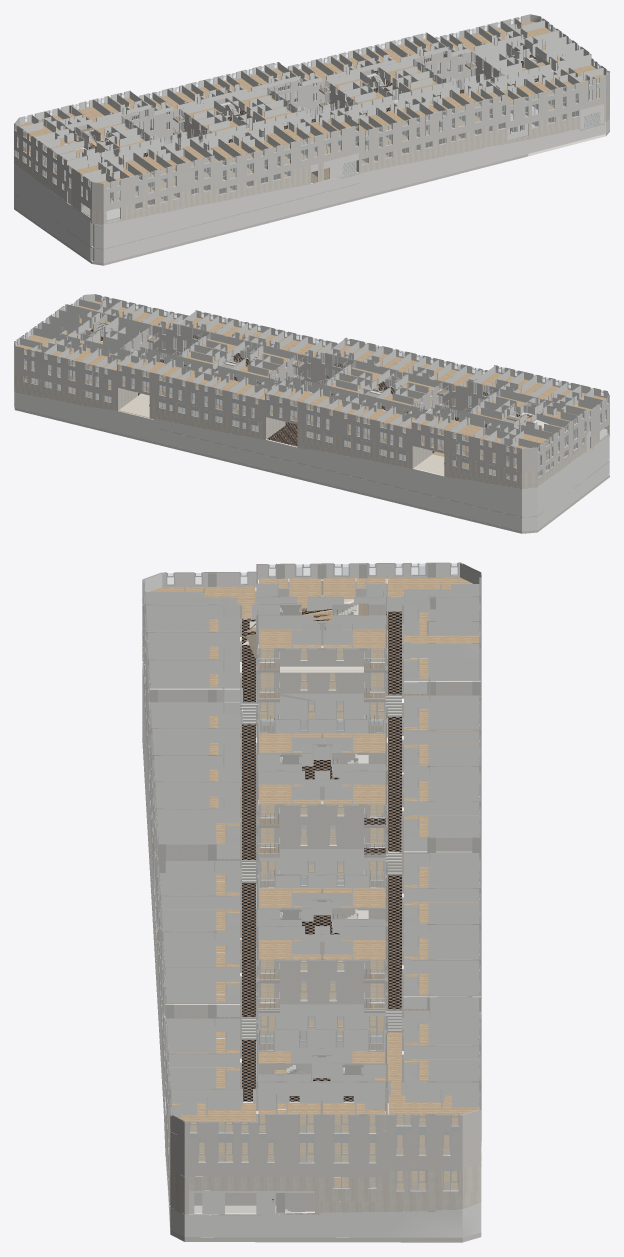
Rendered from apolo_corte_p2.glb.
3 renders of one model, top to bottom at view 1: azimuth 30°, elevation 25°; view 2: azimuth 150°, elevation 25°; view 3: azimuth 270°, elevation 25°, orthographic. The views are drawn at different scales.
Parts seen in each view (by area): view 1: envolvente__T2__APOLO V6 | Pintura interior blanca mate, envolvente__T2__APOLO V6 | Monocapa blanco roto 5pct calido, envolvente__T2__APOLO V3 | Vinilo roble natural claro, envolvente__T2__APOLO V6 | Travertino marfil veta vertical, envolvente__T2__APOLO V6 | Aluminio plata grata, carpinteria__T5__APOLO V6 | Aluminio plata grata, carpinteria__T3__APOLO V6 | Aluminio plata grata, carpinteria__T1__APOLO V6 | Aluminio plata grata, carpinteria__T0__APOLO V6 | Aluminio plata grata, carpinteria__T7__APOLO V6 | Aluminio plata grata, envolvente__T2__Tile_Interior_05_1K, carpinteria__T4__APOLO V6 | Aluminio plata grata (+3 smaller); view 2: envolvente__T2__APOLO V6 | Pintura interior blanca mate, envolvente__T2__APOLO V6 | Monocapa blanco roto 5pct calido, envolvente__T2__APOLO V6 | Travertino marfil veta vertical, envolvente__T2__APOLO V3 | Vinilo roble natural claro, carpinteria__T0__APOLO V6 | Aluminio plata grata, carpinteria__T2__APOLO V6 | Aluminio plata grata, carpinteria__T4__APOLO V6 | Aluminio plata grata, envolvente__T2__APOLO V6 | Aluminio plata grata, carpinteria__T6__APOLO V6 | Aluminio plata grata, envolvente__T2__Tile_Interior_05_1K, envolvente__T4__Tile_Interior_05_1K, envolvente__T4__APOLO V6 | PAMESA WELLS Ivory 120x60 (+3 smaller); view 3: envolvente__T2__APOLO V6 | Pintura interior blanca mate, envolvente__T2__APOLO V6 | Monocapa blanco roto 5pct calido, envolvente__T2__APOLO V3 | Vinilo roble natural claro, envolvente__T2__Tile_Interior_05_1K, envolvente__T2__APOLO V6 | Travertino marfil veta vertical, carpinteria__T6__APOLO V6 | Aluminio plata grata, envolvente__T2__APOLO | Tarima exterior greige, envolvente__T0__APOLO V3 | Vinilo roble natural claro, carpinteria__T0__APOLO V6 | Aluminio plata grata, carpinteria__T4__APOLO V6 | Aluminio plata grata, carpinteria__T2__APOLO V6 | Aluminio plata grata, carpinteria__T7__APOLO V6 | Aluminio plata grata (+6 smaller).
Part boxes in pixels (box(x1,y1,x2,y2)): envolvente__T2__APOLO V6 | Pintura interior blanca mate: box(14, 14, 609, 263); envolvente__T2__APOLO V6 | Monocapa blanco roto 5pct calido: box(14, 14, 609, 265); envolvente__T2__APOLO V3 | Vinilo roble natural claro: box(16, 21, 605, 205); envolvente__T2__APOLO V6 | Travertino marfil veta vertical: box(14, 78, 609, 223); envolvente__T2__APOLO V6 | Aluminio plata grata: box(132, 50, 494, 144); carpinteria__T5__APOLO V6 | Aluminio plata grata: box(361, 95, 505, 164); carpinteria__T3__APOLO V6 | Aluminio plata grata: box(219, 125, 358, 194); carpinteria__T1__APOLO V6 | Aluminio plata grata: box(69, 156, 210, 222); carpinteria__T0__APOLO V6 | Aluminio plata grata: box(14, 92, 151, 193); carpinteria__T7__APOLO V6 | Aluminio plata grata: box(510, 60, 607, 133); envolvente__T2__Tile_Interior_05_1K: box(72, 54, 538, 156); carpinteria__T4__APOLO V6 | Aluminio plata grata: box(286, 33, 443, 108); envolvente__T2__APOLO V6 | Pintura interior blanca mate: box(14, 294, 609, 531); envolvente__T2__APOLO V6 | Monocapa blanco roto 5pct calido: box(14, 294, 609, 533); envolvente__T2__APOLO V6 | Travertino marfil veta vertical: box(14, 370, 609, 489); envolvente__T2__APOLO V3 | Vinilo roble natural claro: box(17, 301, 607, 480); carpinteria__T0__APOLO V6 | Aluminio plata grata: box(417, 390, 586, 482); carpinteria__T2__APOLO V6 | Aluminio plata grata: box(266, 362, 441, 461); carpinteria__T4__APOLO V6 | Aluminio plata grata: box(118, 333, 296, 432); envolvente__T2__APOLO V6 | Aluminio plata grata: box(129, 324, 489, 435); carpinteria__T6__APOLO V6 | Aluminio plata grata: box(14, 304, 152, 402); envolvente__T2__Tile_Interior_05_1K: box(90, 328, 542, 453); envolvente__T4__Tile_Interior_05_1K: box(267, 422, 297, 446); envolvente__T4__APOLO V6 | PAMESA WELLS Ivory 120x60: box(119, 393, 149, 417); envolvente__T2__APOLO V6 | Pintura interior blanca mate: box(142, 563, 481, 1237); envolvente__T2__APOLO V6 | Monocapa blanco roto 5pct calido: box(142, 562, 481, 1242); envolvente__T2__APOLO V3 | Vinilo roble natural claro: box(148, 577, 479, 1189); envolvente__T2__Tile_Interior_05_1K: box(242, 609, 401, 1101); envolvente__T2__APOLO V6 | Travertino marfil veta vertical: box(142, 636, 481, 1215); carpinteria__T6__APOLO V6 | Aluminio plata grata: box(258, 1019, 481, 1191); envolvente__T2__APOLO | Tarima exterior greige: box(149, 579, 478, 1114); envolvente__T0__APOLO V3 | Vinilo roble natural claro: box(259, 578, 428, 690); carpinteria__T0__APOLO V6 | Aluminio plata grata: box(259, 562, 481, 721); carpinteria__T4__APOLO V6 | Aluminio plata grata: box(260, 858, 481, 1036); carpinteria__T2__APOLO V6 | Aluminio plata grata: box(260, 700, 481, 881); carpinteria__T7__APOLO V6 | Aluminio plata grata: box(164, 1021, 249, 1163).
Size of the model in its own units: 111 by 17.85 by 31.2.
28 materials, 7 textured.
